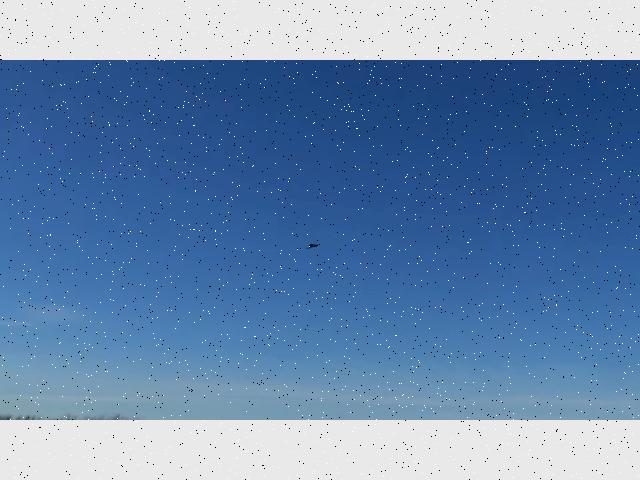Anti-Drone: (300, 236, 322, 256)
